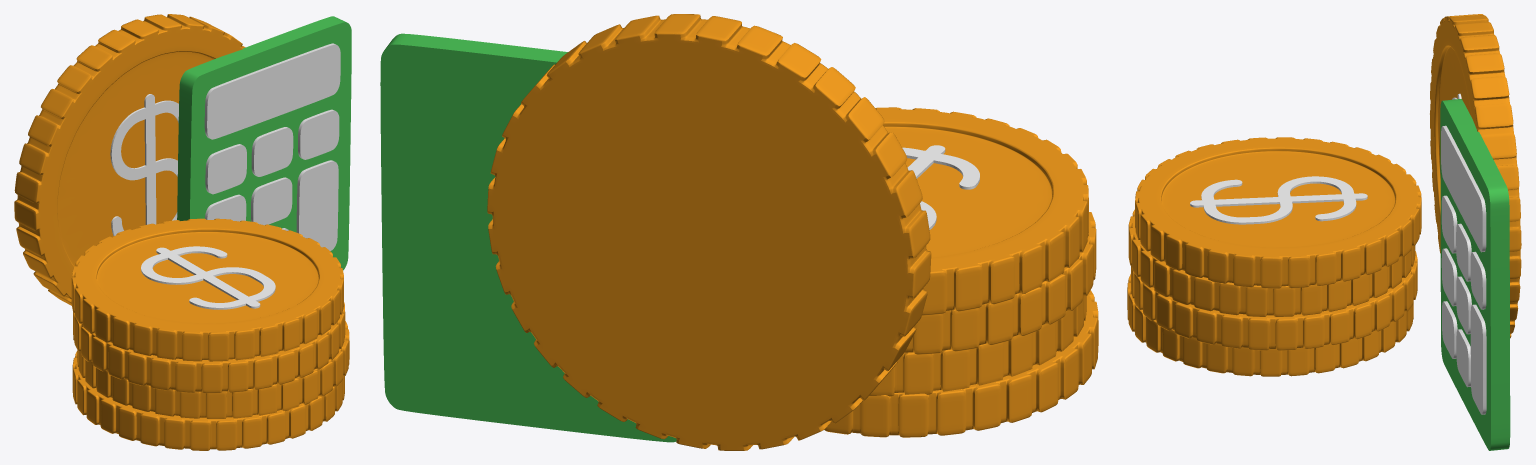
The model's file is budget-3d-animated-icon-794190933423.glb.
The picture shows the model from 3 angles, left to right: view 1: azimuth 30°, elevation 25°; view 2: azimuth 150°, elevation 25°; view 3: azimuth 270°, elevation 25°; orthographic projection. The views are drawn at different scales.
Visible parts, largest first — view 1: Cylinder.004, Cylinder.003, Plane.001, Plane, Cylinder, Cylinder.002, Cylinder.001, Curve.001, Curve.003; view 2: Cylinder.004, Plane, Cylinder.003, Cylinder, Cylinder.002, Cylinder.001, Curve.003; view 3: Cylinder.003, Plane, Cylinder.004, Cylinder.001, Plane.001, Cylinder.002, Cylinder, Curve.003.
Part boxes in pixels (box(x1,y1,x2,y2)): Cylinder.004: box(14, 14, 245, 305); Cylinder.003: box(71, 218, 343, 361); Plane.001: box(204, 43, 340, 250); Plane: box(177, 16, 351, 270); Cylinder: box(72, 351, 344, 450); Cylinder.002: box(73, 302, 345, 393); Cylinder.001: box(77, 321, 349, 418); Curve.001: box(110, 94, 178, 235); Curve.003: box(141, 246, 275, 309); Cylinder.004: box(487, 14, 931, 450); Plane: box(380, 33, 676, 442); Cylinder.003: box(875, 107, 1088, 315); Cylinder: box(824, 290, 1098, 437); Cylinder.002: box(904, 212, 1096, 354); Cylinder.001: box(869, 295, 1086, 396); Curve.003: box(902, 145, 979, 229); Cylinder.003: box(1135, 137, 1421, 288); Plane: box(1440, 99, 1510, 450); Cylinder.004: box(1430, 14, 1521, 338); Cylinder.001: box(1131, 251, 1417, 350); Plane.001: box(1441, 125, 1486, 414); Cylinder.002: box(1128, 209, 1415, 316); Cylinder: box(1127, 274, 1413, 376); Curve.003: box(1190, 176, 1367, 224).
Bounding box in the file's own units: 2.92 × 2.31 × 2.59.
